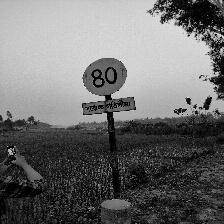Speed-limit: (82, 57, 135, 114)
